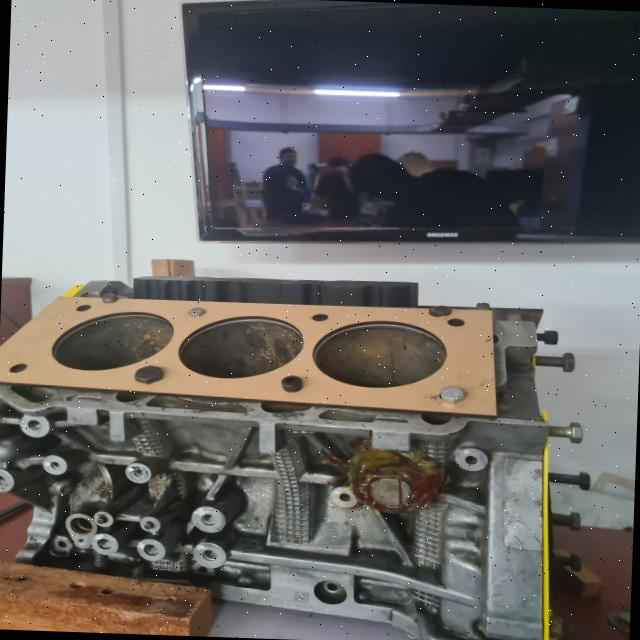tor_v1: (0, 296, 497, 415)
